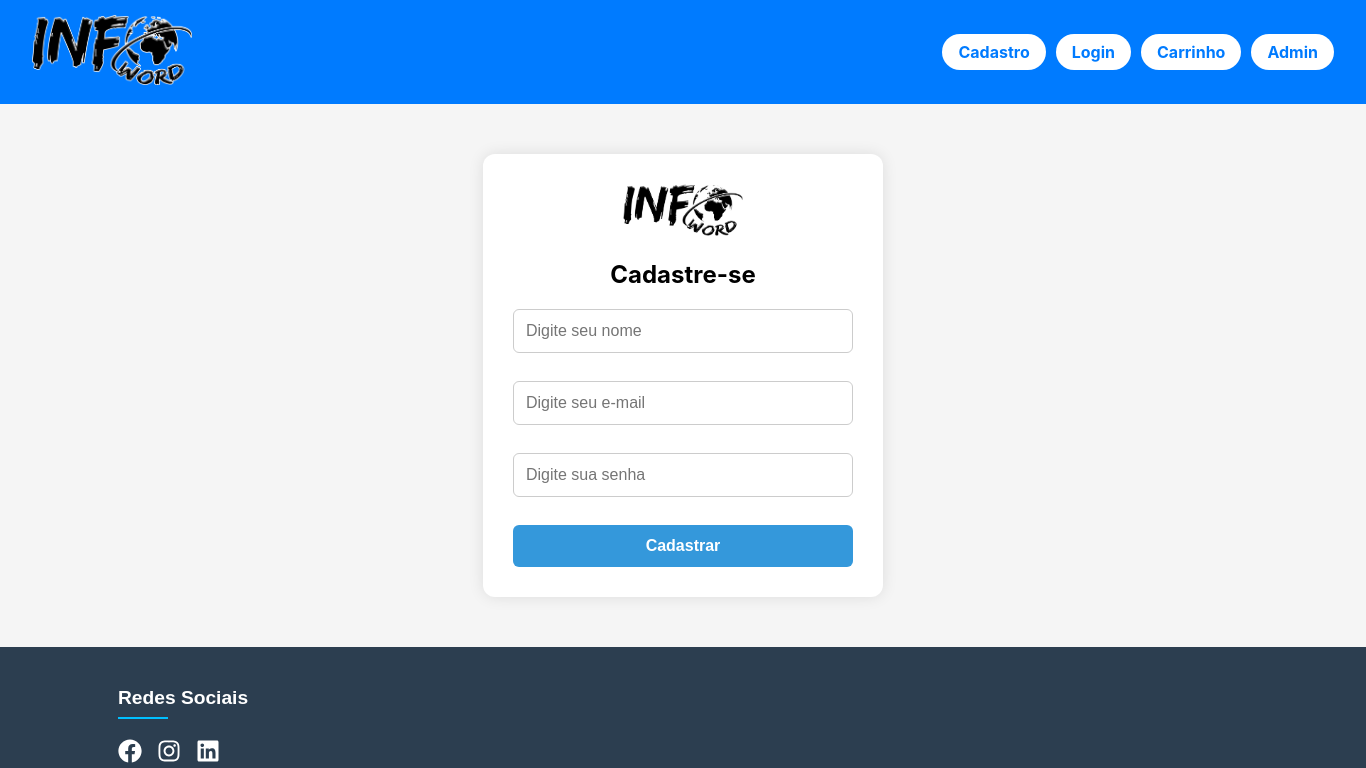
Test: RegisterPage › exibe mensagem de erro quando o cadastro falha
The width and height of the screenshot is (1366, 768).
Step 1. Type "Ana" into the field with placeholder "Digite seu nome" → (683, 331), box [513,309,853,353]
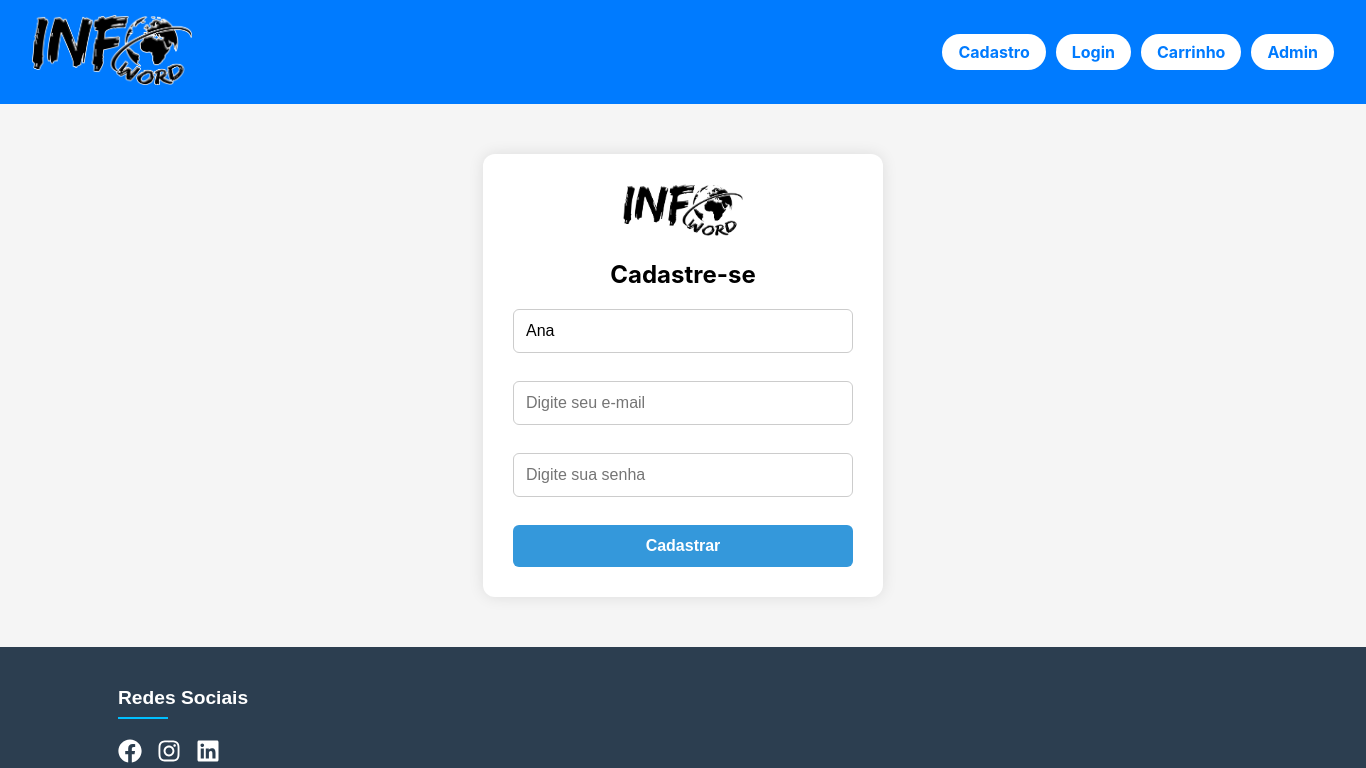
Step 2. Type "ana@email.com" into the field with placeholder "Digite seu e-mail" → (683, 403), box [513,381,853,425]
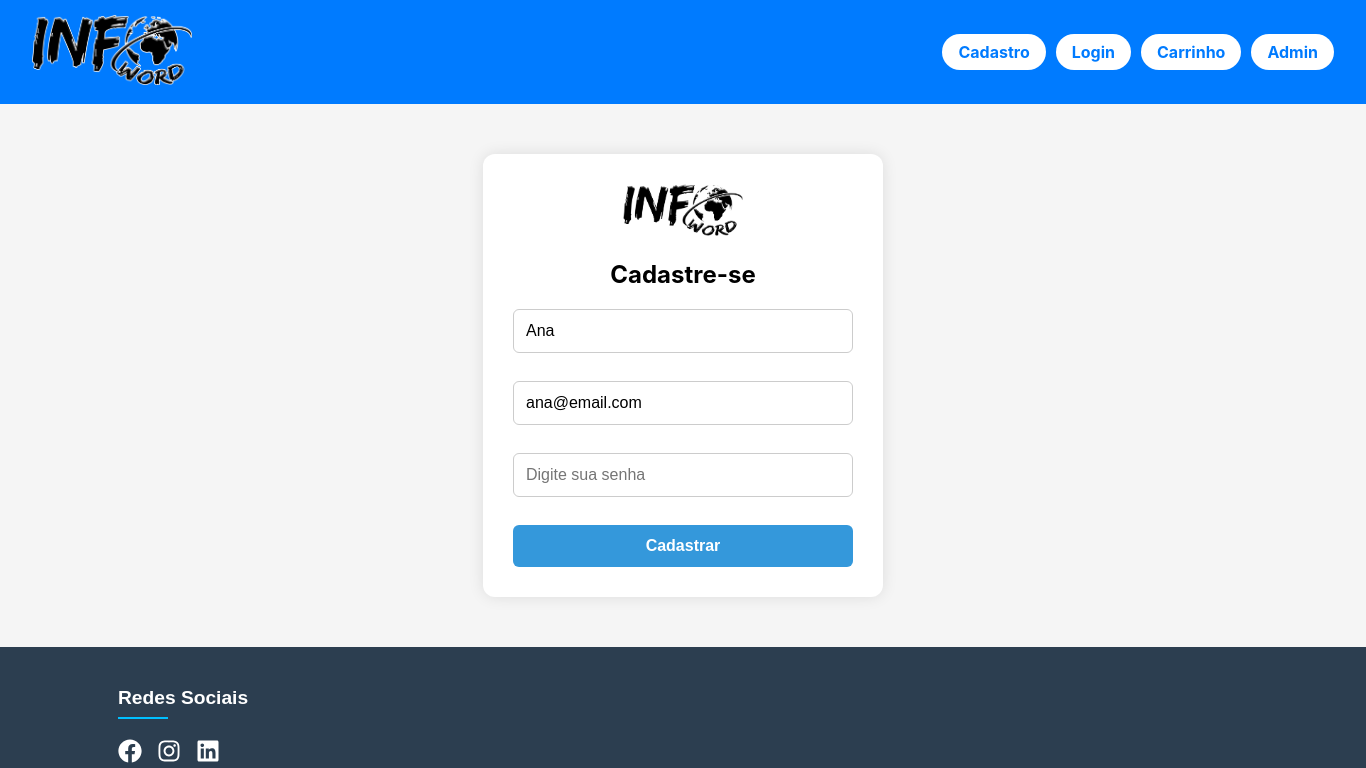
Step 3. Type "123456" into the password field with placeholder "Digite sua senha" → (683, 475), box [513,453,853,497]
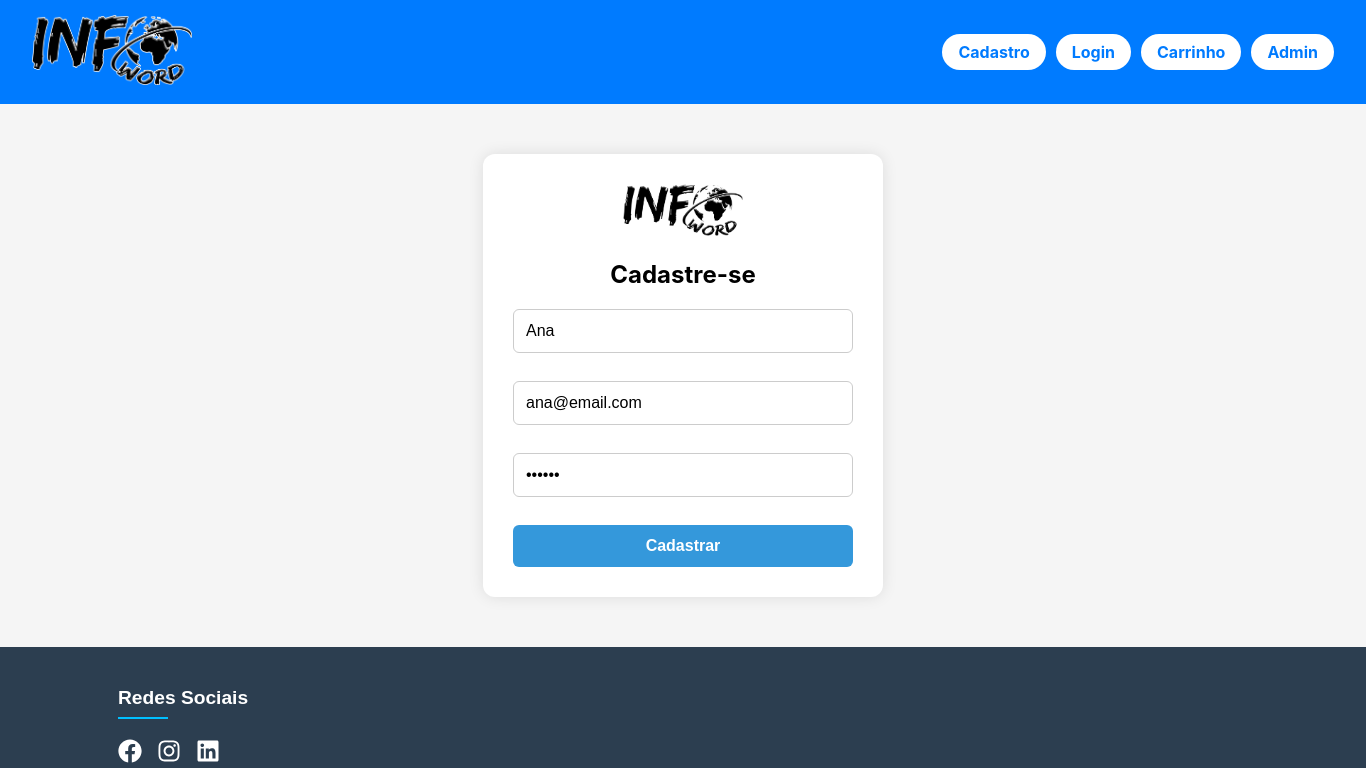
Step 4. Click the button "Cadastrar" → (683, 546), box [513,525,853,567]
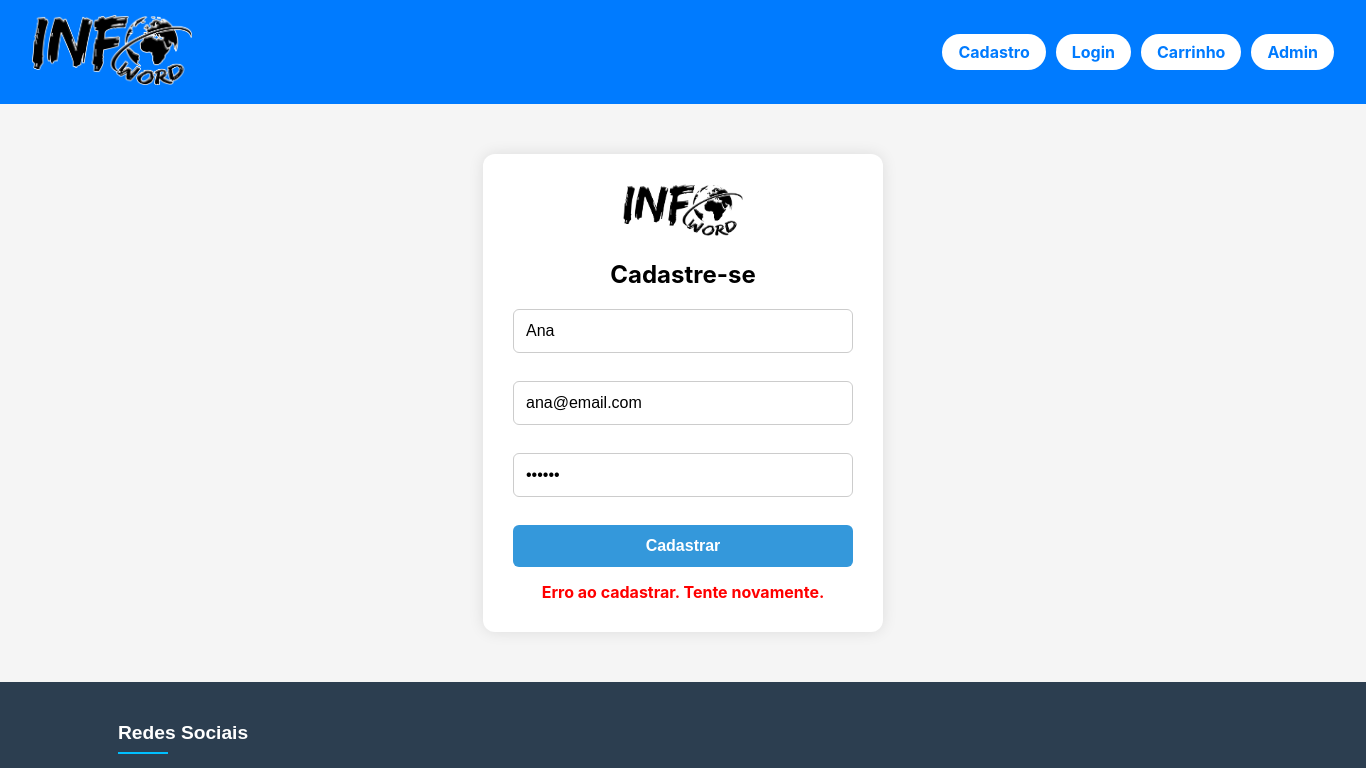
expect the text "Erro ao cadastrar. Tente novamente." is shown: met, box [542,582,824,602]
